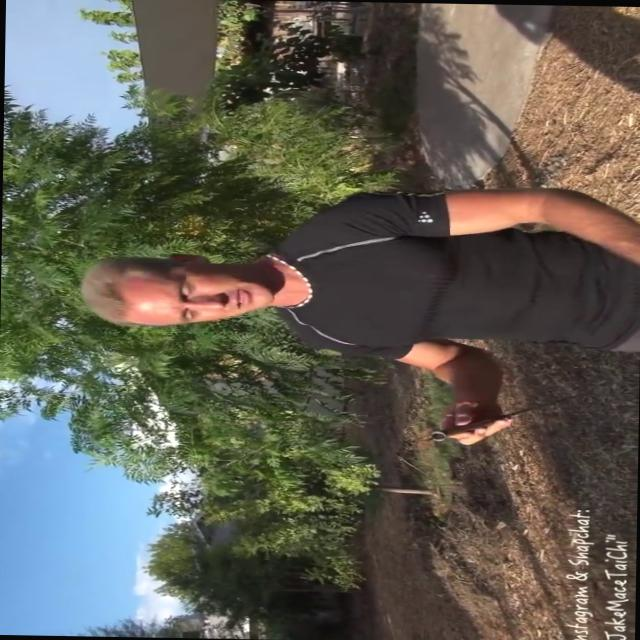knife: (406, 378, 593, 445)
